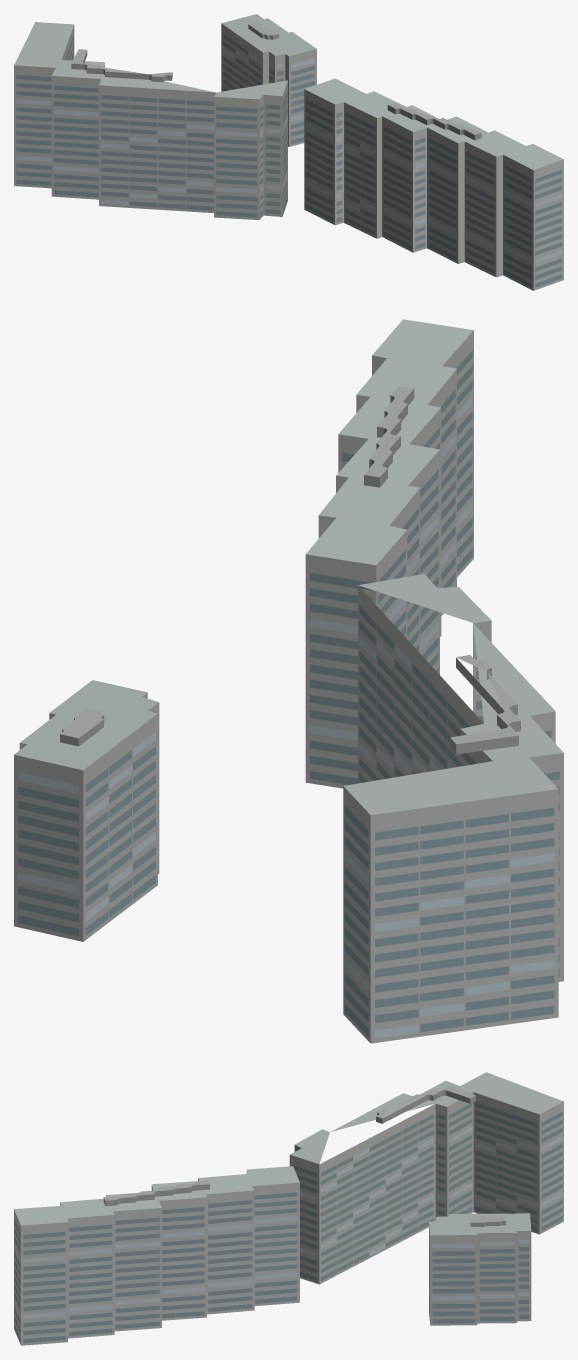
The model's file is apt-a13527010.glb.
The picture shows the model from 3 angles, top to bottom: view 1: azimuth 30°, elevation 25°; view 2: azimuth 150°, elevation 25°; view 3: azimuth 270°, elevation 25°; orthographic projection. The views are drawn at different scales.
Parts seen in each view (by area): view 1: apt-a13527010; view 2: apt-a13527010; view 3: apt-a13527010.
Part boxes in pixels (x1,y1,x2,y2): apt-a13527010: (14,14,563,290); apt-a13527010: (14,319,563,1043); apt-a13527010: (14,1072,563,1345).
Bounding box in the file's own units: 125 × 47.81 × 190.
